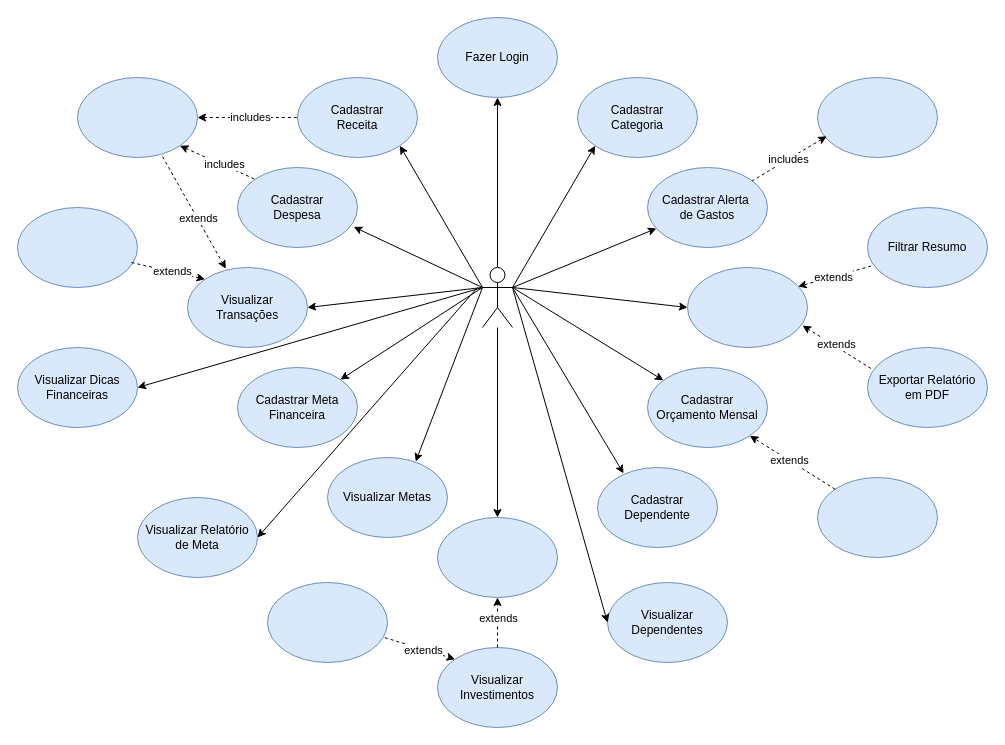
Some shapes in this 1005 by 745 pixel diagram are drawn without their labels. Here are the shapes that lost their labels. From the top down, the centre of each, then its label:
point 137,117: Atribuir Transação à Categoria
point 877,117: Atribuir Alerta à Categoria
point 77,247: Atribuir à Dependente
point 497,297: Usuário
point 747,307: Visualizar Resumo Financeiro
point 877,517: Atribuir Orçamento à Categoria
point 497,557: Cadastrar Investimento
point 327,622: Gerar Projeção de Rendimentos
